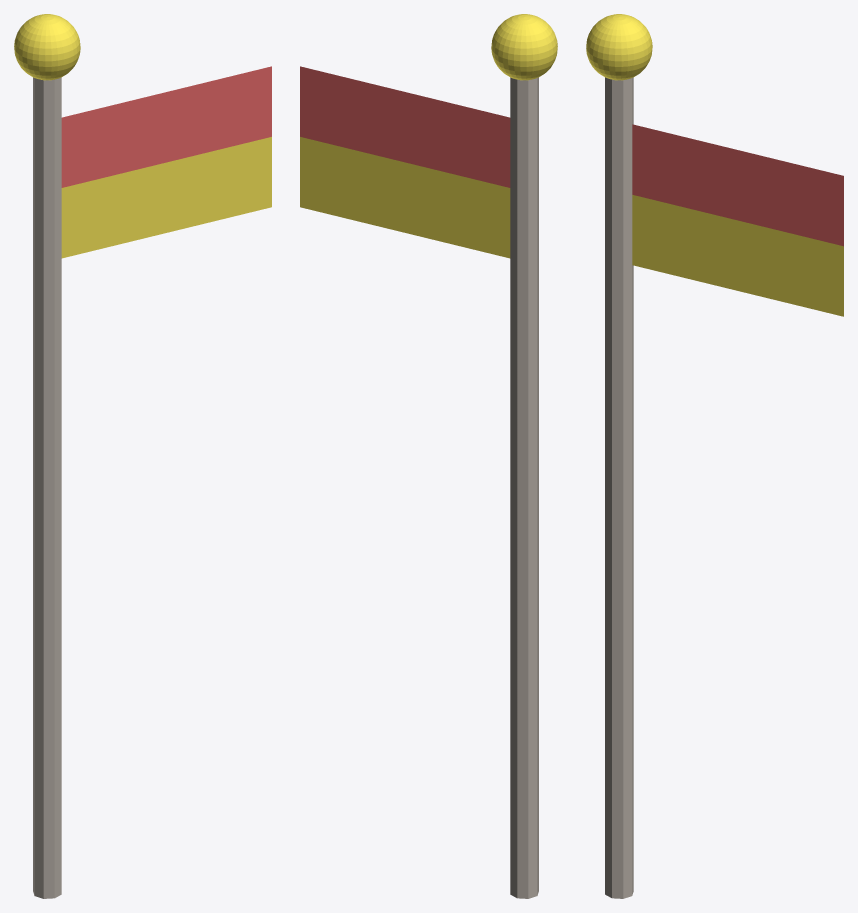
Rendered from flag.glb.
3 renders of one model, left to right at view 1: azimuth 30°, elevation 25°; view 2: azimuth 150°, elevation 25°; view 3: azimuth 330°, elevation 25°, orthographic.
Visible parts, largest first — view 1: Flag, Cylinder, Sphere; view 2: Flag, Cylinder, Sphere; view 3: Flag, Cylinder, Sphere.
Part boxes in pixels (<box>): Flag: <box>61,66,271,258</box>; Cylinder: <box>33,77,61,898</box>; Sphere: <box>14,14,80,80</box>; Flag: <box>300,66,510,258</box>; Cylinder: <box>510,77,538,898</box>; Sphere: <box>491,14,557,80</box>; Flag: <box>632,124,843,316</box>; Cylinder: <box>605,77,633,898</box>; Sphere: <box>586,14,652,80</box>.
Bounding box in the file's own units: 0.79 × 2.61 × 0.18.
